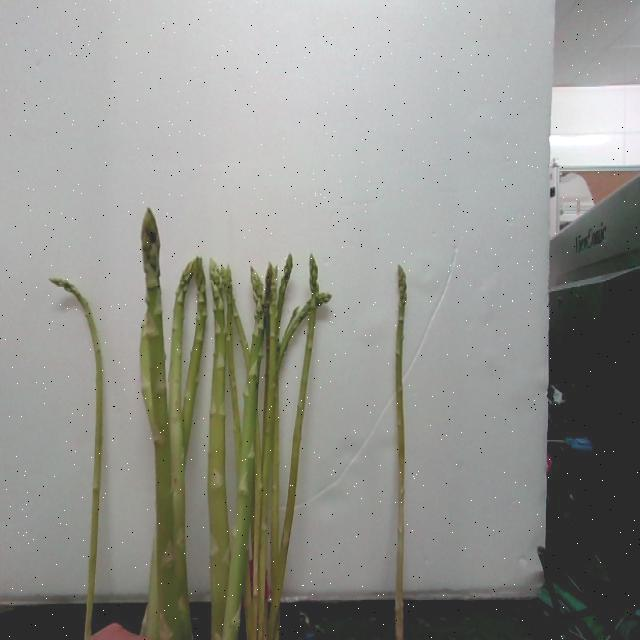aspargus: (393, 266, 413, 640)
